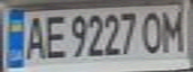2: (84, 10, 106, 58), (103, 10, 124, 57)
7: (118, 9, 142, 56)
9: (66, 11, 87, 60)
A: (21, 12, 48, 62)
E: (42, 11, 69, 61)
M: (157, 6, 190, 54)
O: (139, 8, 169, 55)
